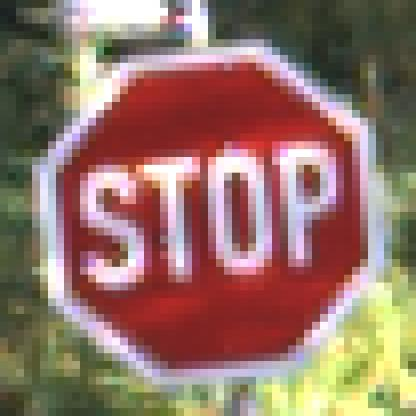Stop: (49, 54, 374, 376)
